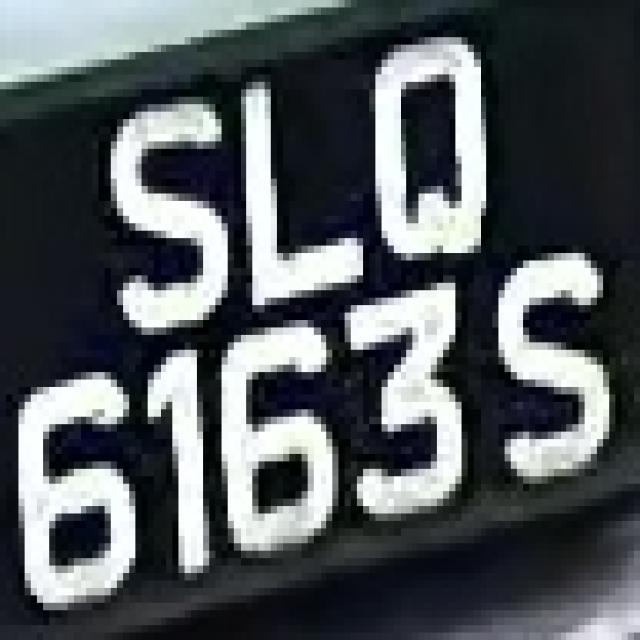1: (129, 320, 228, 595)
3: (320, 245, 486, 536)
6: (197, 290, 345, 588), (6, 328, 154, 618)
L: (222, 67, 382, 290)
Q: (344, 30, 504, 275)
S: (455, 238, 628, 506), (98, 67, 234, 350)
